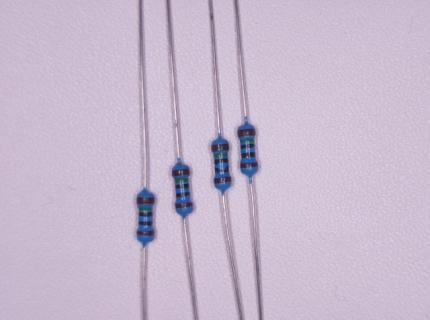Black band: (215, 166, 228, 173), (176, 192, 189, 198), (241, 144, 254, 150), (242, 152, 255, 158), (214, 159, 228, 164), (139, 212, 152, 217), (139, 221, 152, 226), (176, 184, 189, 189)
Brown band: (172, 168, 189, 176), (212, 144, 229, 152), (238, 129, 255, 137), (137, 197, 154, 204), (136, 230, 155, 236), (175, 202, 192, 208), (215, 177, 231, 183), (241, 163, 257, 168)
Green band: (214, 152, 228, 158), (175, 178, 188, 184), (240, 138, 254, 143), (138, 206, 152, 210)
